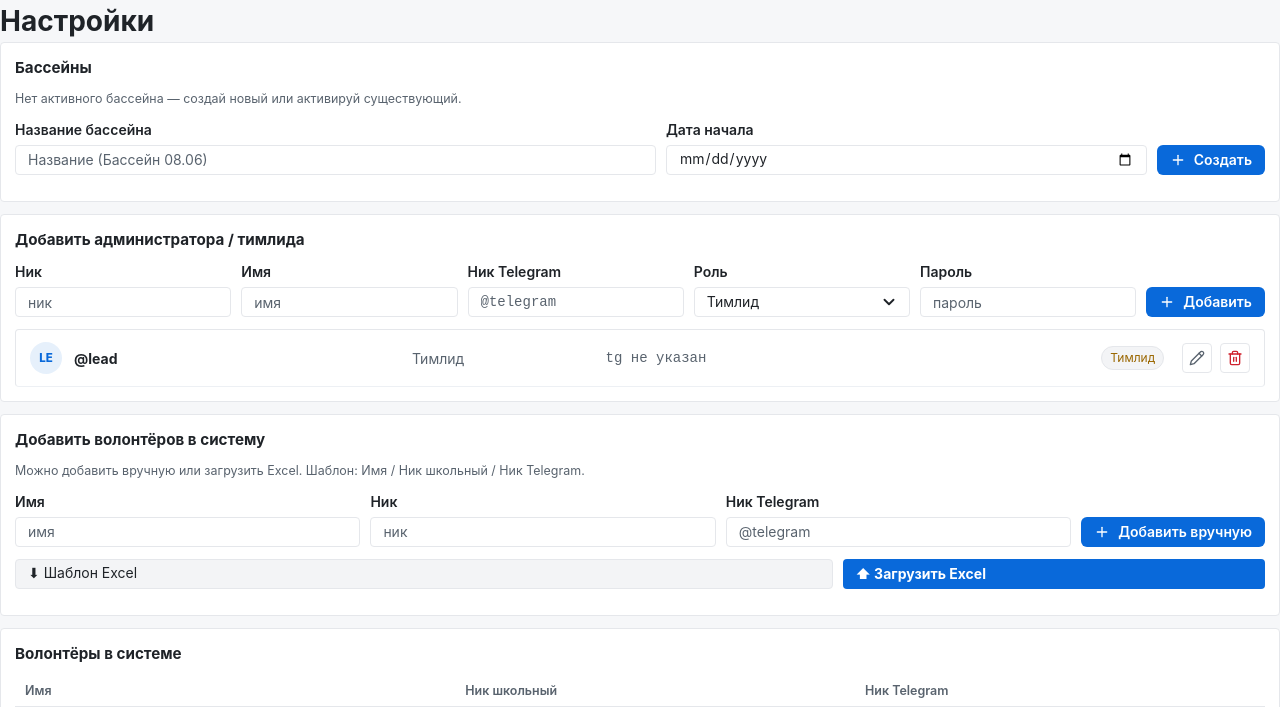
Test: labels manual volunteer creation and staff edit fields
The width and height of the screenshot is (1280, 707).
Check: the text "@lead" is shown, box [74,350,118,367]
Check: the text "Имя" below "Добавить волонтёров в систему" is shown, box [15,493,45,510]
Click the button titled "Редактировать" at (1197, 358), box [1182,343,1212,373]
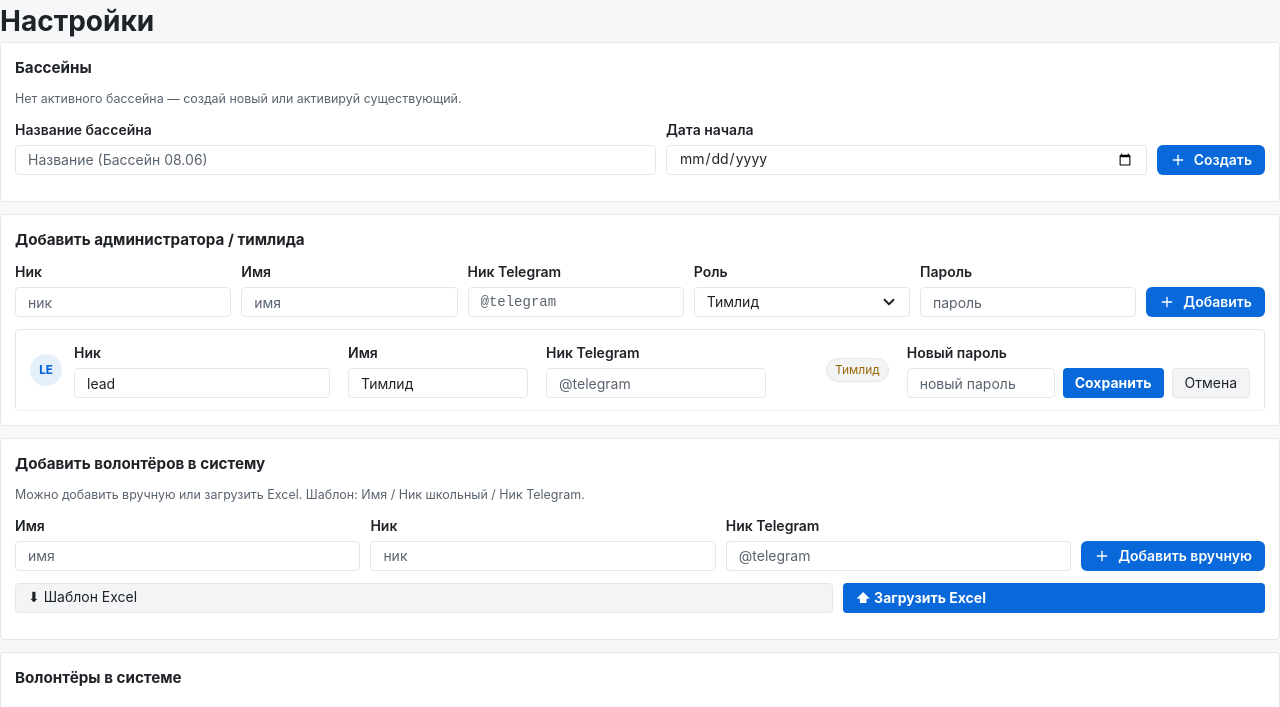
Check: the text "Ник" in the row of "Новый пароль" is shown, box [74,344,101,361]
Check: the text "Имя" in the row of "Новый пароль" is shown, box [348,344,378,361]
Check: the text "Ник Telegram" next to "Новый пароль" is shown, box [546,344,640,361]
